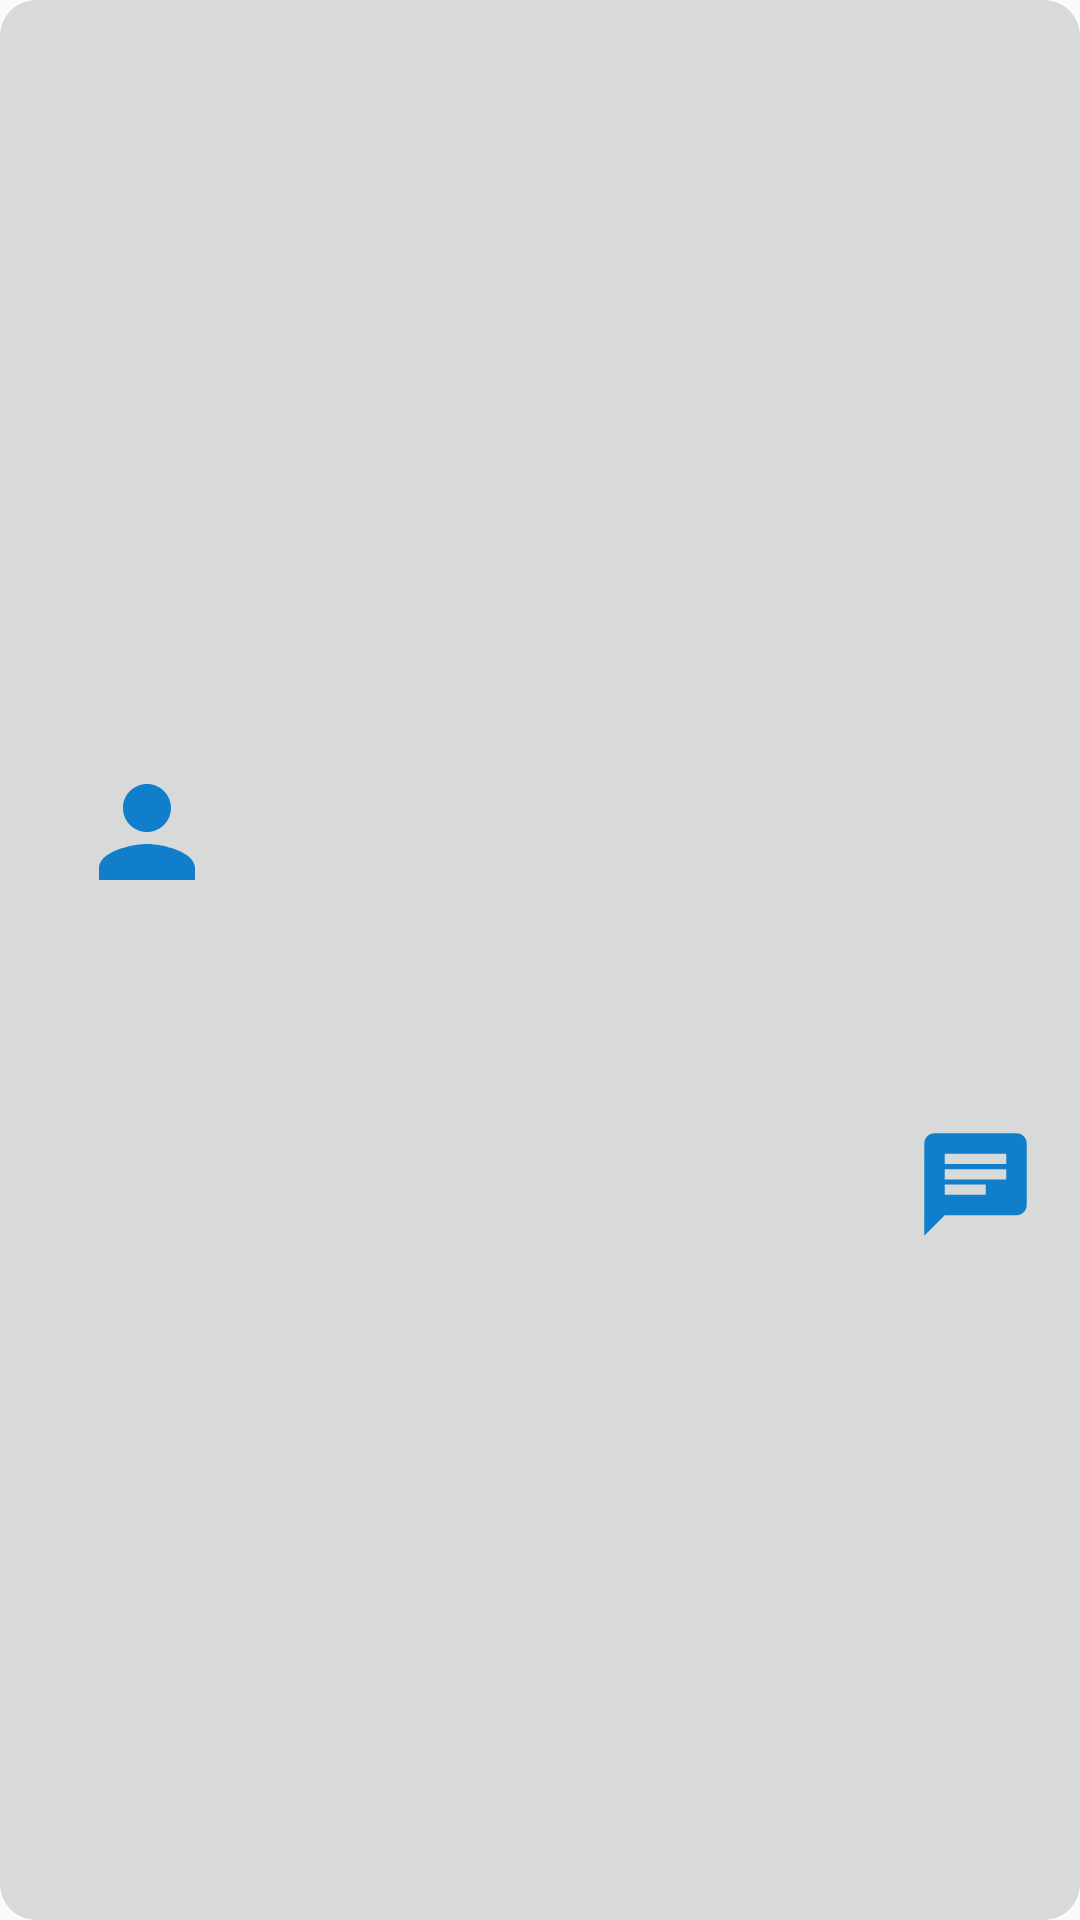

Screen size 1080x1920. Icon name, then its box in pixels as (x1, y1, x2, y2):
chat: (924, 1133, 1027, 1236)
person: (99, 784, 195, 880)
